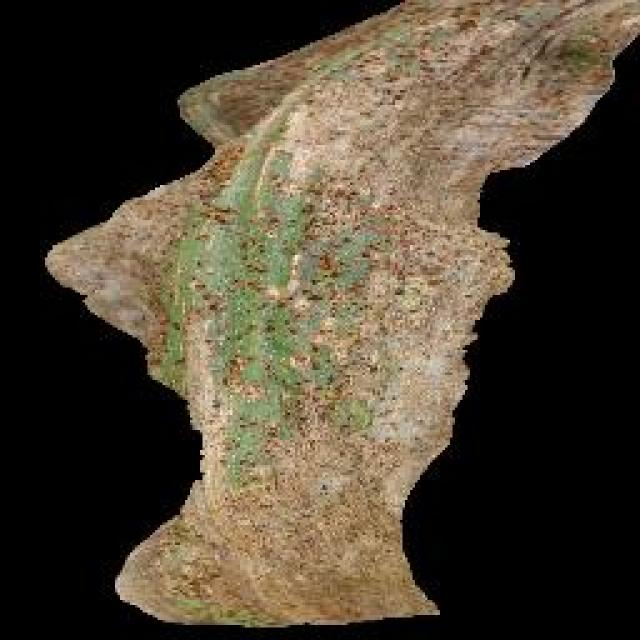Corn Common Rust: (113, 0, 431, 578)
